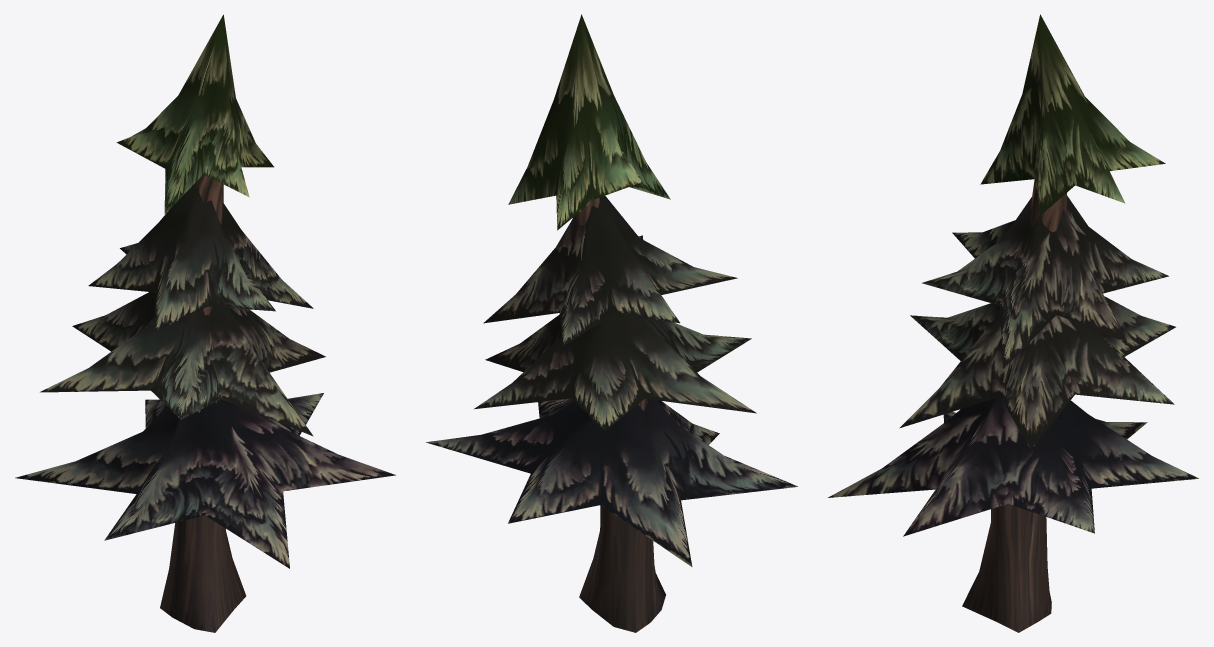
Rendered from Nspruce_2_1.fbx.
3 renders of one model, left to right at view 1: azimuth 30°, elevation 25°; view 2: azimuth 150°, elevation 25°; view 3: azimuth 270°, elevation 25°, orthographic. The views are drawn at different scales.
Visible parts, largest first — view 1: Nspruce_2_1; view 2: Nspruce_2_1; view 3: Nspruce_2_1.
Part boxes in pixels (x1,y1,x2,y2): Nspruce_2_1: (15, 14, 395, 632); Nspruce_2_1: (426, 14, 797, 632); Nspruce_2_1: (828, 14, 1198, 632).
Bounding box in the file's own units: 115 × 211 × 115.
